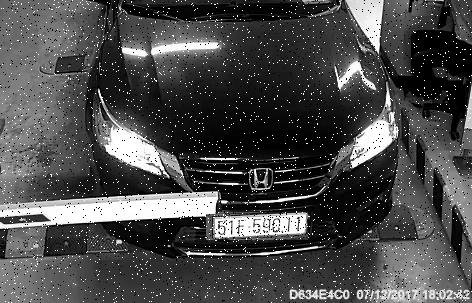License-plate: (208, 214, 311, 243)
